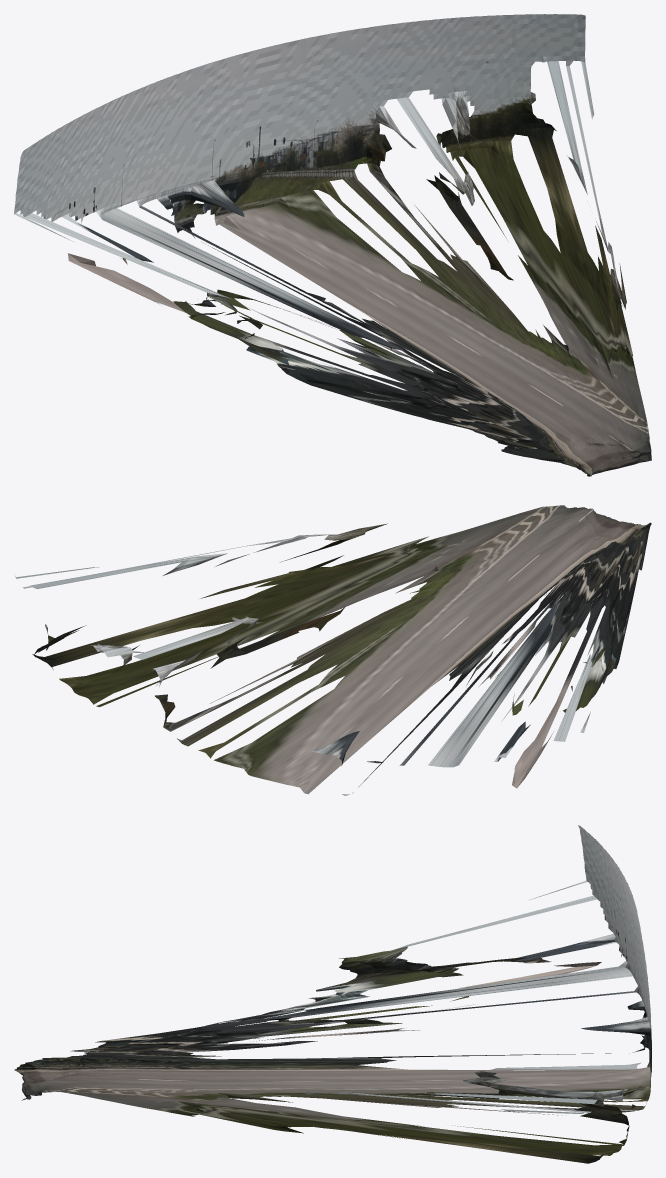
3 views of the same model, one above another, from view 1: azimuth 30°, elevation 25°; view 2: azimuth 150°, elevation 25°; view 3: azimuth 270°, elevation 25° (orthographic). The views are drawn at different scales.
Visible parts, largest first — view 1: defaultobject; view 2: defaultobject; view 3: defaultobject.
Boxes of the visible parts, x1,y1,x2,y2 form: defaultobject: (14,14,651,476); defaultobject: (14,505,651,795); defaultobject: (14,825,651,1163).
Bounding box in the file's own units: 40.97 × 11.7 × 44.73.
Materials: 1 (1 with a texture image).
